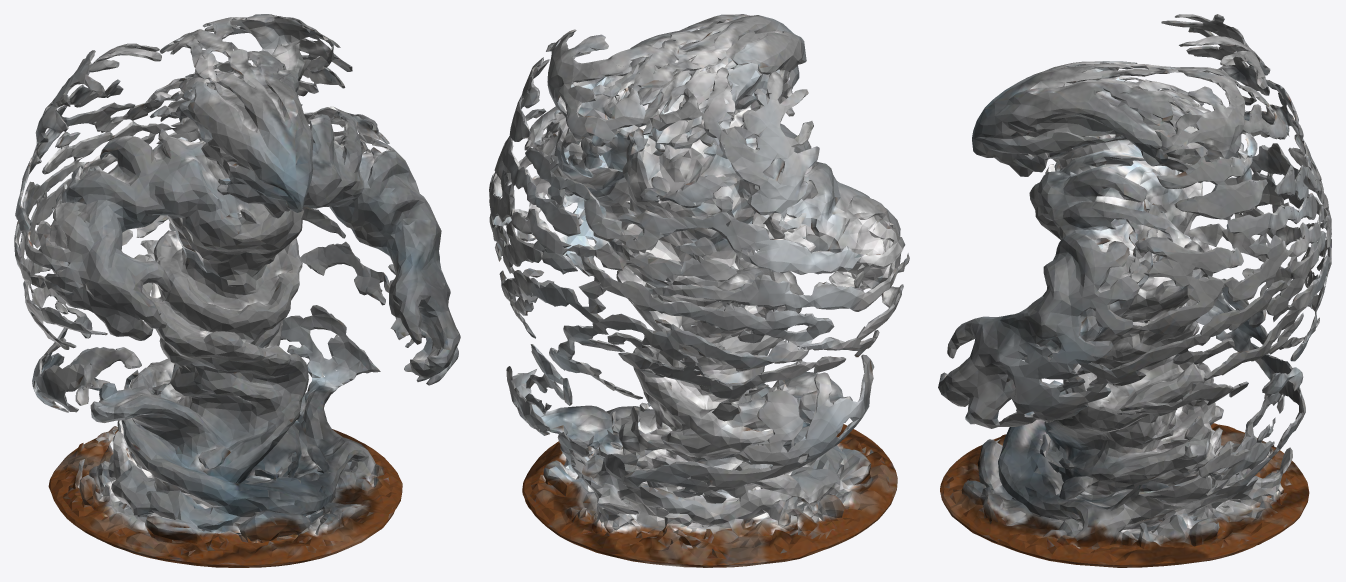
The model's file is elemental_ar.glb.
The picture shows the model from 3 angles, left to right: view 1: azimuth 30°, elevation 25°; view 2: azimuth 150°, elevation 25°; view 3: azimuth 270°, elevation 25°; orthographic projection. The views are drawn at different scales.
Visible parts, largest first — view 1: tmpndkeesrj.ply; view 2: tmpndkeesrj.ply; view 3: tmpndkeesrj.ply.
Boxes of the visible parts, x1,y1,x2,y2 form: tmpndkeesrj.ply: (14, 14, 460, 567); tmpndkeesrj.ply: (489, 14, 909, 567); tmpndkeesrj.ply: (938, 14, 1331, 567).
Bounding box in the file's own units: 1.74 × 1.96 × 1.59.
1 material, 1 textured.
